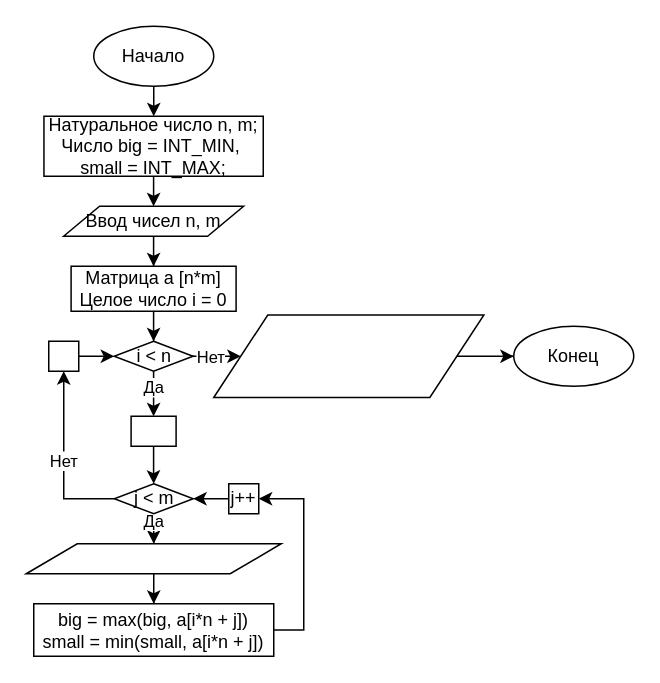
Image size: 660x683. Some labels were removed from this diagram. Each missing label, with the centre of its shape:
i++: (63,355)
j = 0: (153,430)
Ввод числа a[i*n + j]: (153,558)
Вывод строки "big: " Вывод числа big Вывод строки ", small:" Вывод числа small: (348,356)
